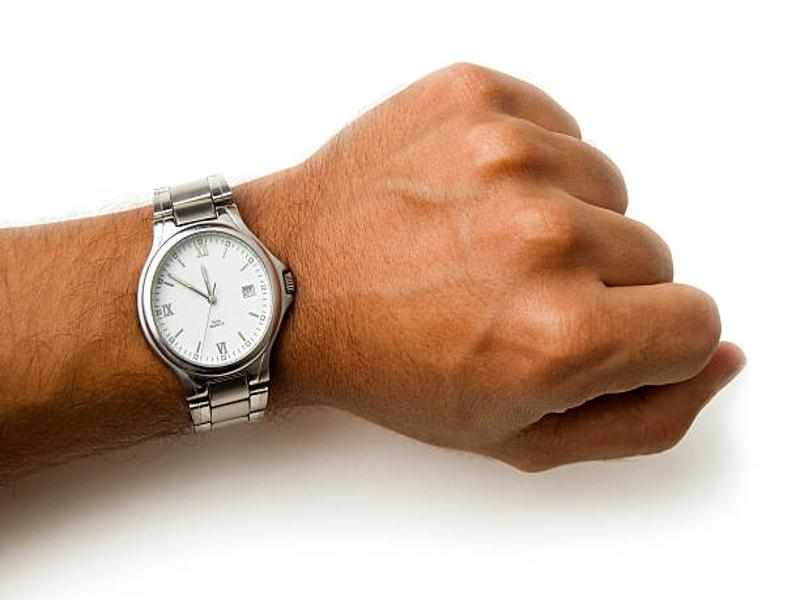watch: (137, 174, 297, 434)
